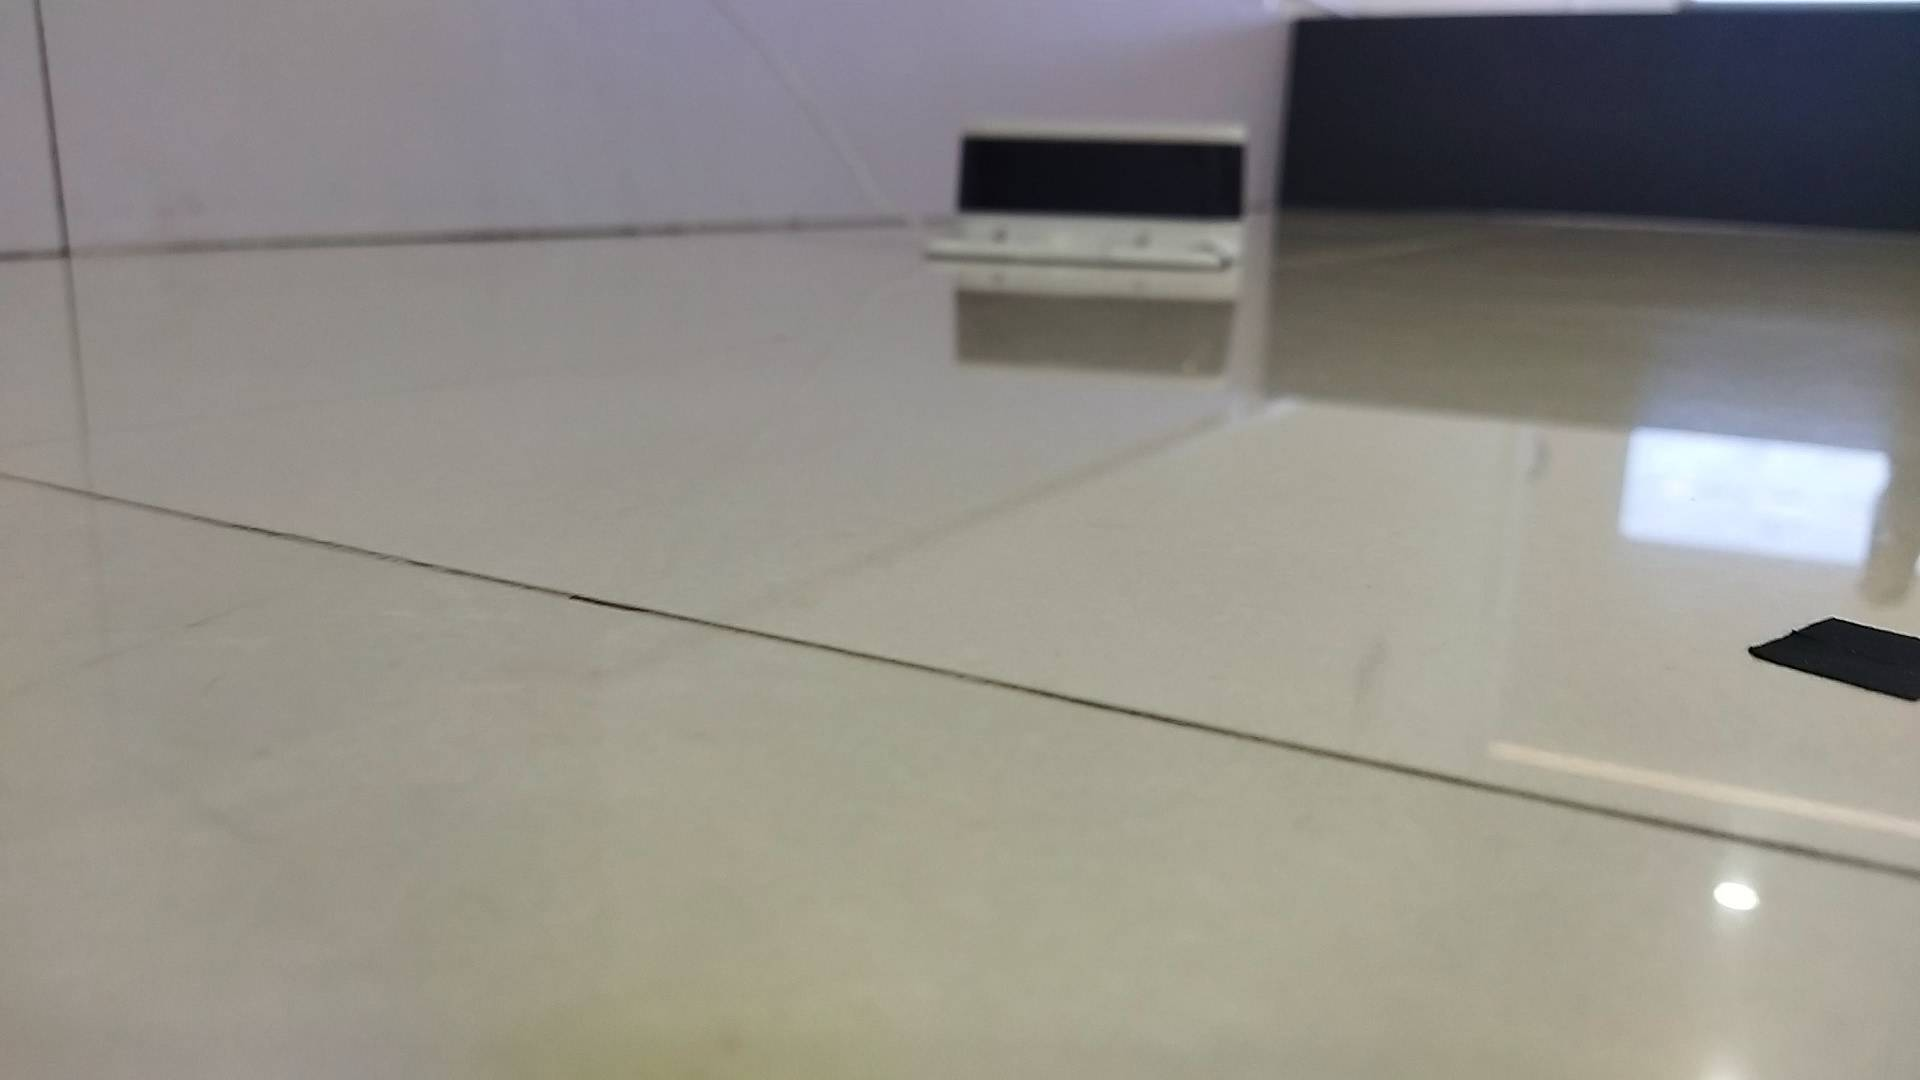recharge seat: (919, 117, 1247, 269)
